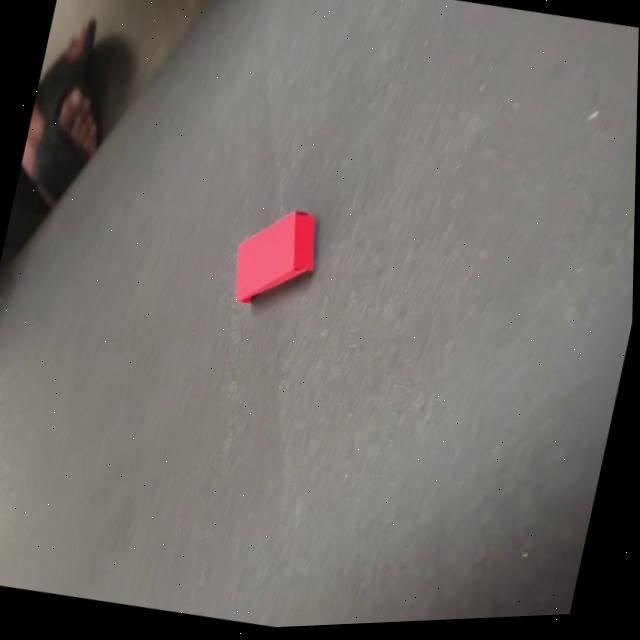red block: (224, 196, 325, 317)
